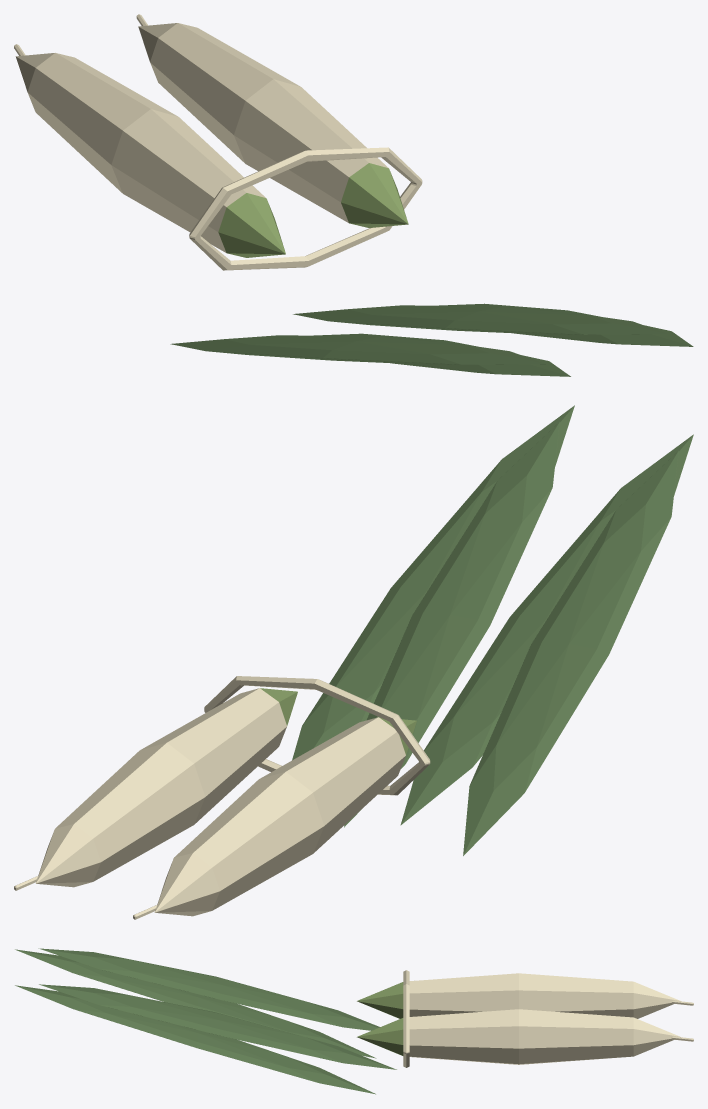
File: leek.glb
3 renders of one model, top to bottom at view 1: azimuth 30°, elevation 25°; view 2: azimuth 150°, elevation 25°; view 3: azimuth 270°, elevation 25°, orthographic. The views are drawn at different scales.
Visible parts, largest first — view 1: leek; view 2: leek; view 3: leek.
Boxes of the visible parts, x1,y1,x2,y2 form: leek: (14,14,693,376); leek: (14,405,693,919); leek: (15,948,693,1094).
Size of the model in its own units: 0.0759 by 0.0483 by 0.2722.
